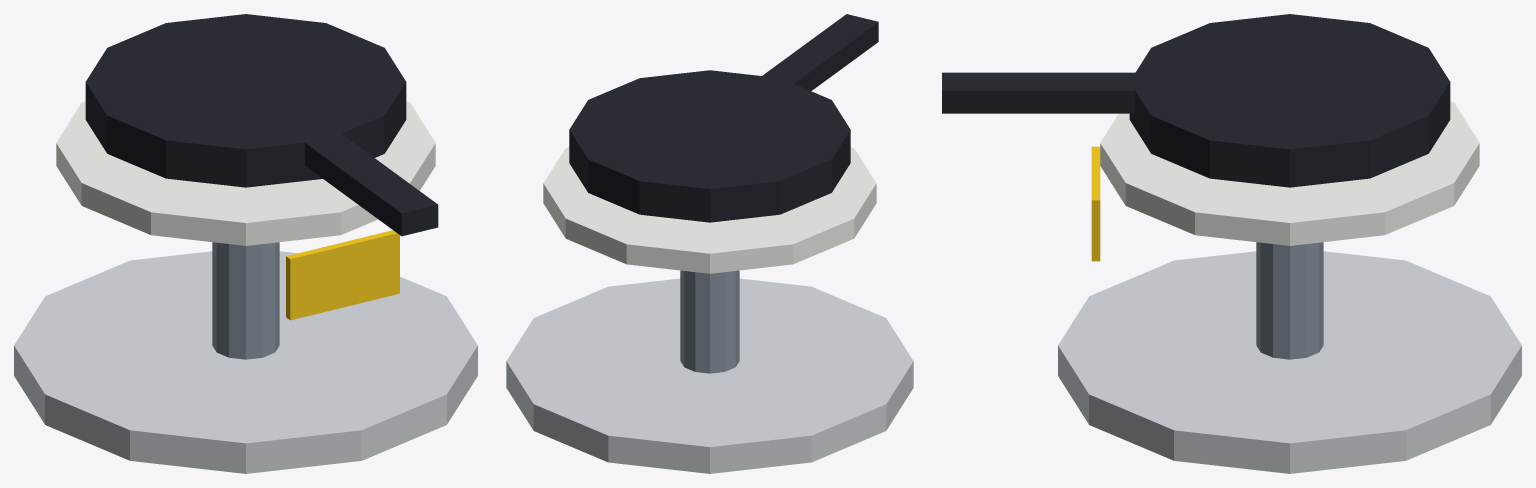
File: item-skillet.glb
3 renders of one model, left to right at view 1: azimuth 30°, elevation 25°; view 2: azimuth 150°, elevation 25°; view 3: azimuth 270°, elevation 25°, orthographic. The views are drawn at different scales.
Parts seen in each view (by area): view 1: item-skillet; view 2: item-skillet; view 3: item-skillet.
Part boxes in pixels (bbox=[...]): item-skillet: bbox=[14, 14, 477, 473]; item-skillet: bbox=[506, 14, 913, 473]; item-skillet: bbox=[942, 14, 1521, 473].
Size of the model in its own units: 1.1 by 0.77 by 1.38.
